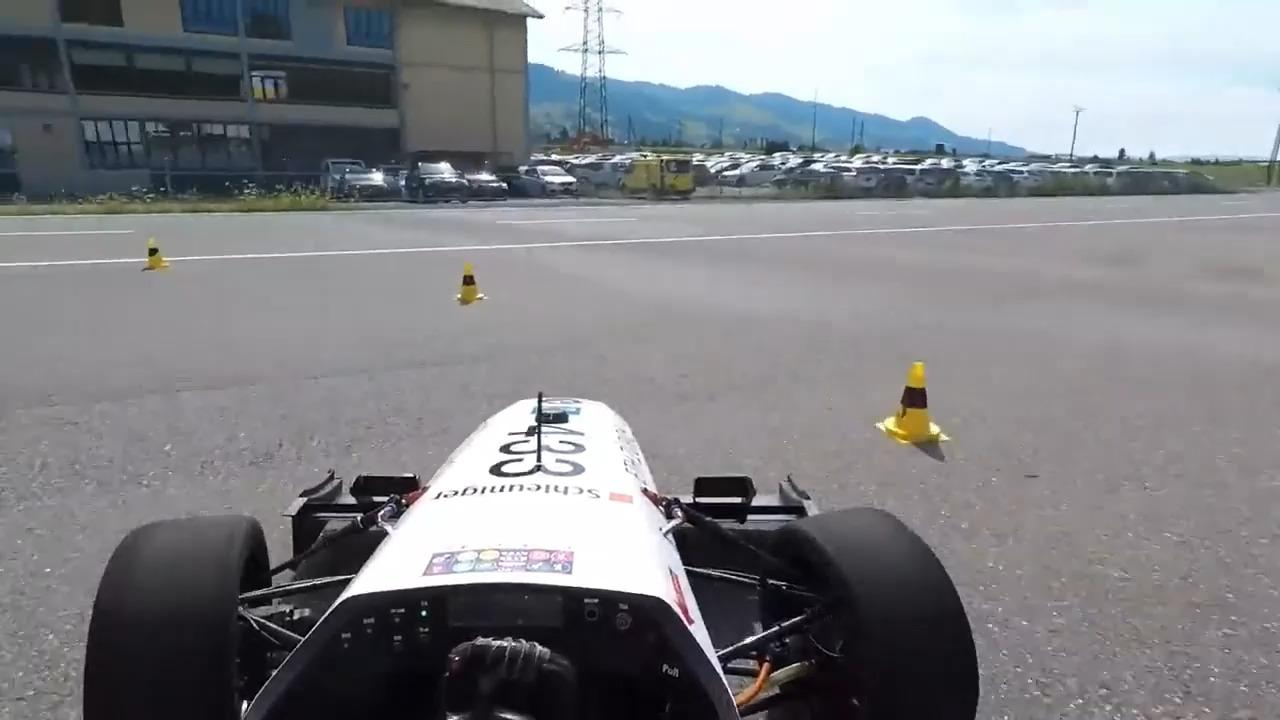yellow_cone: (877, 361, 949, 446), (456, 265, 489, 303), (142, 237, 170, 271)
